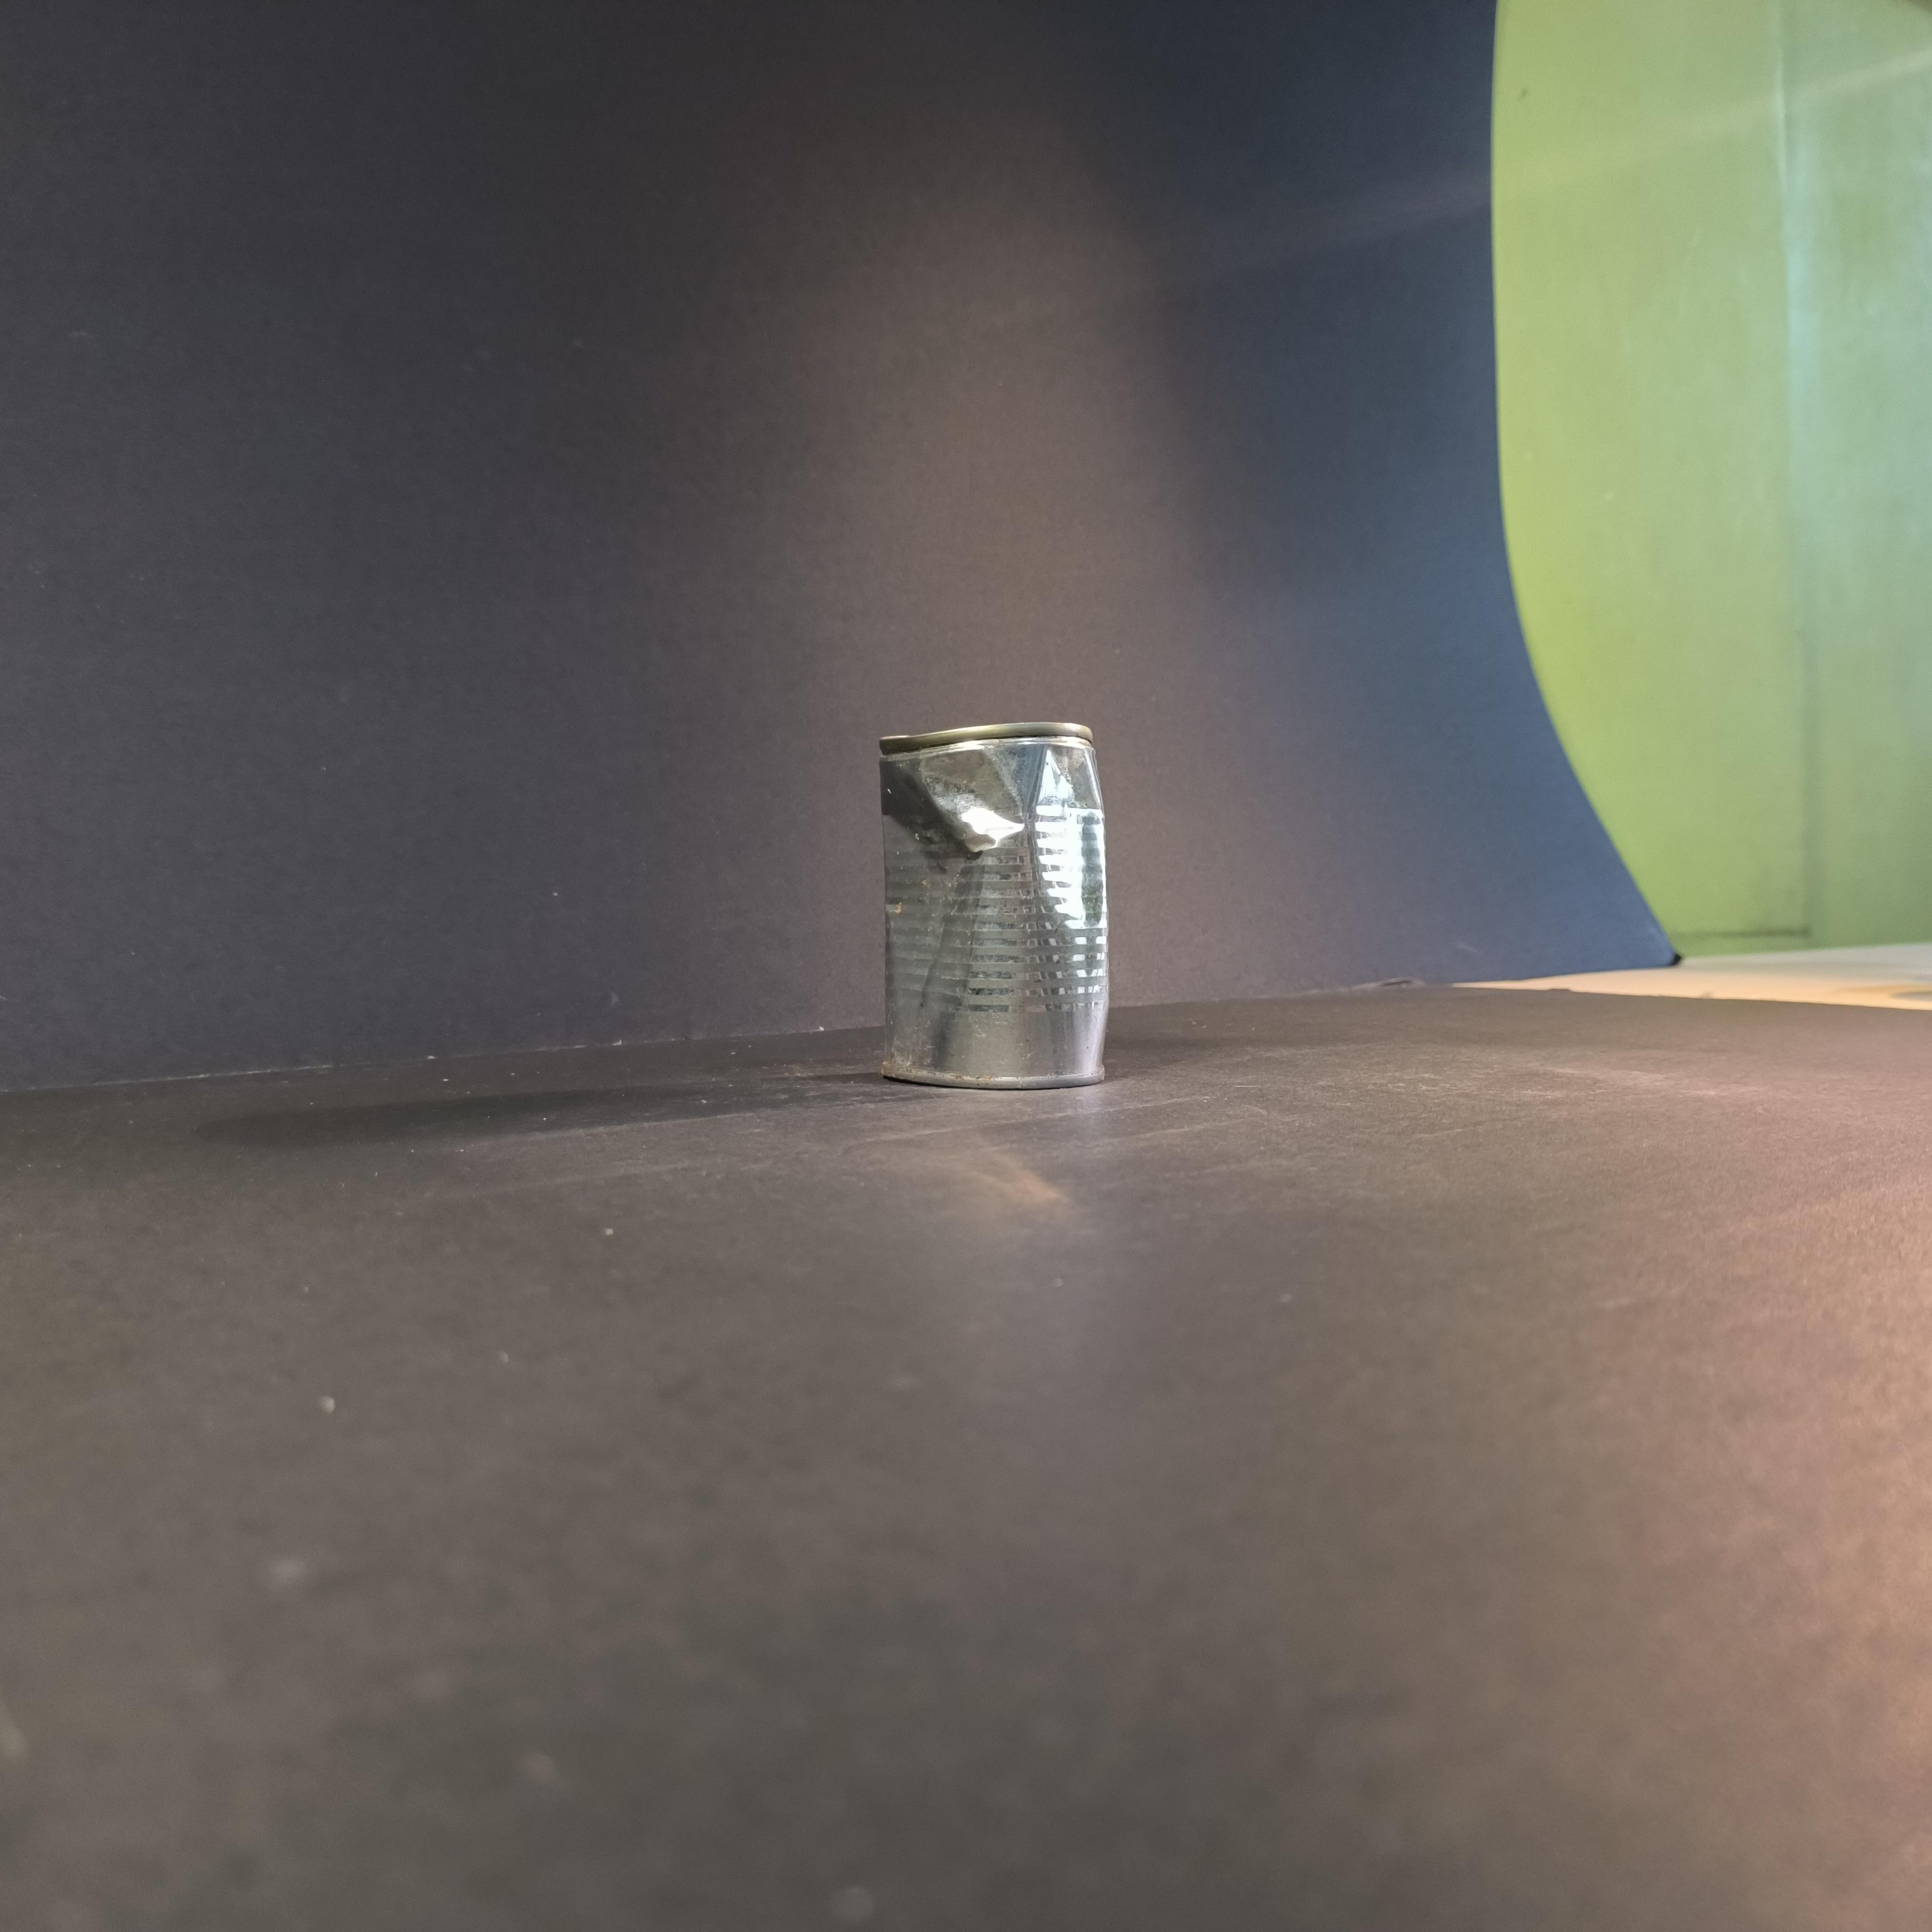Dented: (860, 690, 1118, 1097)
